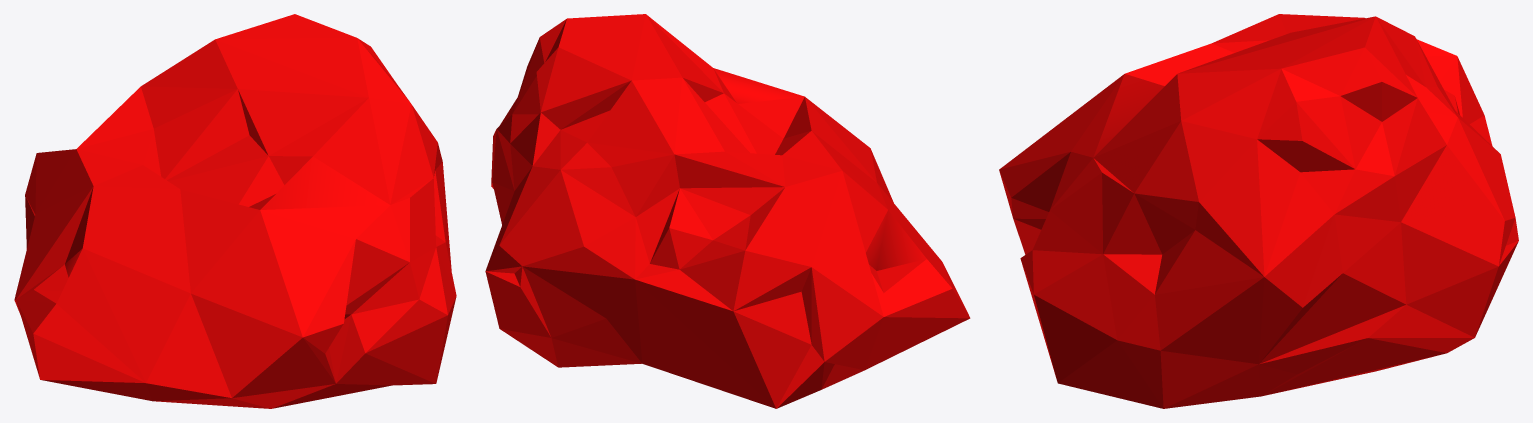
The model's file is meteor_red_form_core_04.glb.
3 renders of one model, left to right at view 1: azimuth 30°, elevation 25°; view 2: azimuth 150°, elevation 25°; view 3: azimuth 270°, elevation 25°, orthographic. The views are drawn at different scales.
Visible parts, largest first — view 1: Mesh1.004; view 2: Mesh1.004; view 3: Mesh1.004.
Boxes of the visible parts, x1,y1,x2,y2 form: Mesh1.004: [14, 14, 456, 408]; Mesh1.004: [485, 14, 970, 408]; Mesh1.004: [999, 14, 1518, 408].
Size of the model in its own units: 1.51 by 0.9682 by 1.33.
